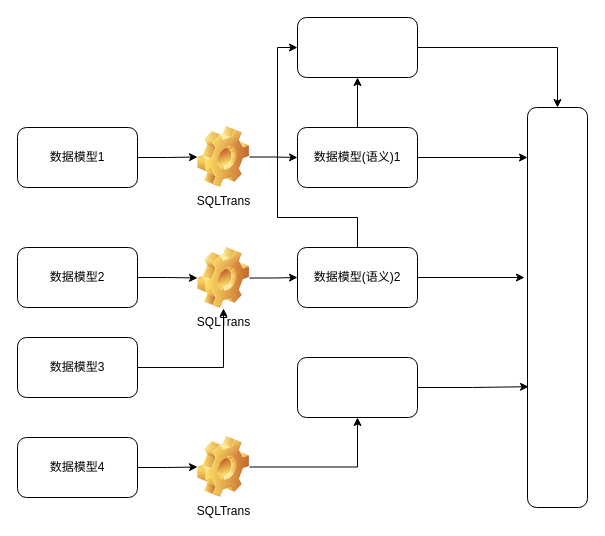
The diagram is 605 pixels wide and 536 high, and some of its shapes have lost their labels. Each missing label, with the centre of its shape:
"业务对象" goes at (x=557, y=307).
"数据模型(语义)3" goes at (x=357, y=387).
"数据模型(语义)4" goes at (x=357, y=47).
